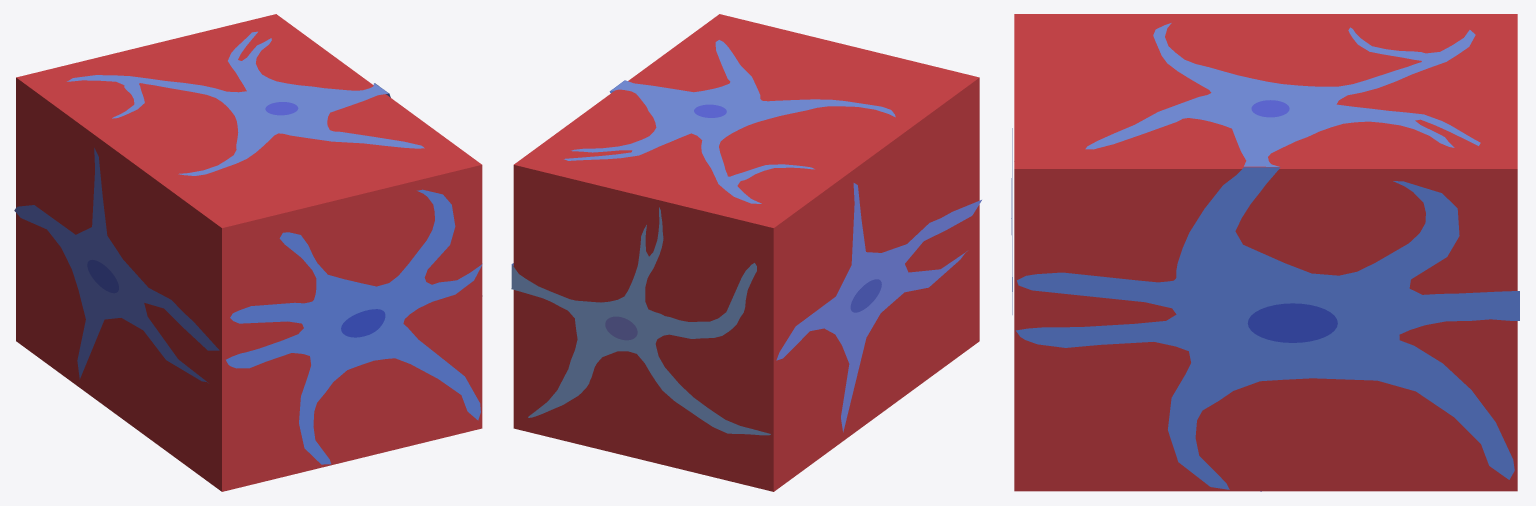
File: nervous.gltf
3 views of the same model, side by side, from view 1: azimuth 30°, elevation 25°; view 2: azimuth 150°, elevation 25°; view 3: azimuth 270°, elevation 25° (orthographic). The views are drawn at different scales.
Parts seen in each view (by area): view 1: Cube; view 2: Cube; view 3: Cube.
Part boxes in pixels (x1,y1,x2,y2): Cube: (14, 14, 482, 491); Cube: (511, 14, 981, 491); Cube: (1011, 14, 1519, 491).
Bounding box in the file's own units: 3.34 × 3.23 × 4.55.
